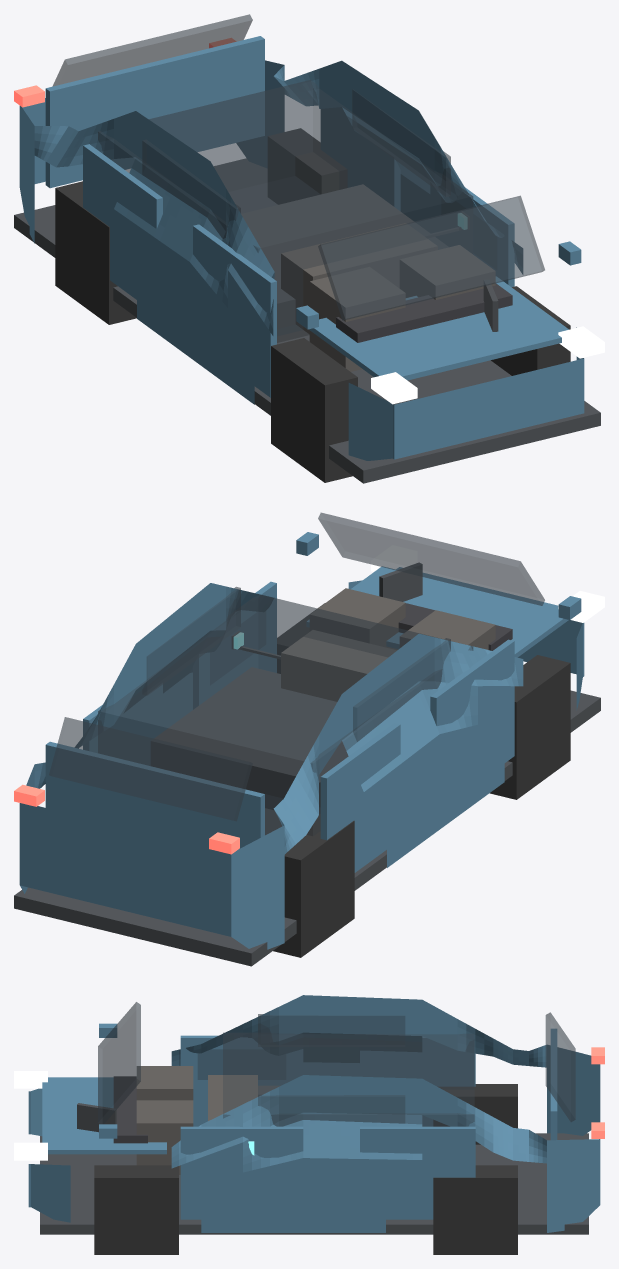
Rendered from suv_lod.cf6944c4a3.glb.
The picture shows the model from 3 angles, top to bottom: view 1: azimuth 30°, elevation 25°; view 2: azimuth 150°, elevation 25°; view 3: azimuth 270°, elevation 25°; orthographic projection. The views are drawn at different scales.
Parts seen in each view (by area): view 1: body_mesh, cab_mesh, windshield, liftgate_mesh, trim_mesh, frunk_mesh, tire_fr, wheel_well_mesh, tire_rr, seat_rear, door_rr_mesh, rear_glass (+12 smaller); view 2: body_mesh, cab_mesh, wheel_well_mesh, liftgate_mesh, rear_glass, trim_mesh, windshield, tire_rr, tire_fr, door_rr_mesh, frunk_mesh, seat_rear (+12 smaller); view 3: body_mesh, cab_mesh, trim_mesh, tire_fl, door_rl_mesh, tire_rl, frunk_mesh, door_fr_mesh, window_fixed_r, door_fl_mesh, door_rr_mesh, window_fixed_l (+12 smaller).
Boxes of the visible parts, left/top/right/bottom form: body_mesh: left=19, top=60, right=584, bottom=460; cab_mesh: left=98, top=80, right=473, bottom=336; windshield: left=318, top=195, right=544, bottom=320; liftgate_mesh: left=45, top=36, right=264, bottom=188; trim_mesh: left=14, top=158, right=600, bottom=483; frunk_mesh: left=309, top=276, right=568, bottom=380; tire_fr: left=271, top=338, right=357, bottom=482; wheel_well_mesh: left=241, top=184, right=447, bottom=342; tire_rr: left=55, top=181, right=136, bottom=324; seat_rear: left=281, top=223, right=437, bottom=334; door_rr_mesh: left=83, top=144, right=162, bottom=299; rear_glass: left=52, top=14, right=252, bottom=86; body_mesh: left=19, top=580, right=584, bottom=949; cab_mesh: left=98, top=595, right=473, bottom=835; wheel_well_mesh: left=151, top=667, right=348, bottom=813; liftgate_mesh: left=45, top=741, right=264, bottom=848; rear_glass: left=49, top=717, right=252, bottom=821; trim_mesh: left=14, top=690, right=600, bottom=966; windshield: left=318, top=512, right=544, bottom=605; tire_rr: left=273, top=814, right=354, bottom=957; tire_fr: left=490, top=655, right=570, bottom=799; door_rr_mesh: left=320, top=723, right=400, bottom=872; frunk_mesh: left=306, top=566, right=568, bottom=657; seat_rear: left=281, top=630, right=396, bottom=701; body_mesh: left=28, top=995, right=600, bottom=1232; cab_mesh: left=223, top=1032, right=474, bottom=1126; trim_mesh: left=40, top=1133, right=588, bottom=1234; tire_fl: left=94, top=1165, right=178, bottom=1254; door_rl_mesh: left=360, top=1126, right=475, bottom=1219; tire_rl: left=433, top=1165, right=517, bottom=1254; frunk_mesh: left=42, top=1077, right=166, bottom=1154; door_fr_mesh: left=180, top=1035, right=302, bottom=1126; window_fixed_r: left=258, top=1014, right=404, bottom=1046; door_fl_mesh: left=180, top=1126, right=303, bottom=1219; door_rr_mesh: left=360, top=1036, right=475, bottom=1126; window_fixed_l: left=258, top=1094, right=404, bottom=1126.
Size of the model in its own units: 2.19 by 1.68 by 5.21.
